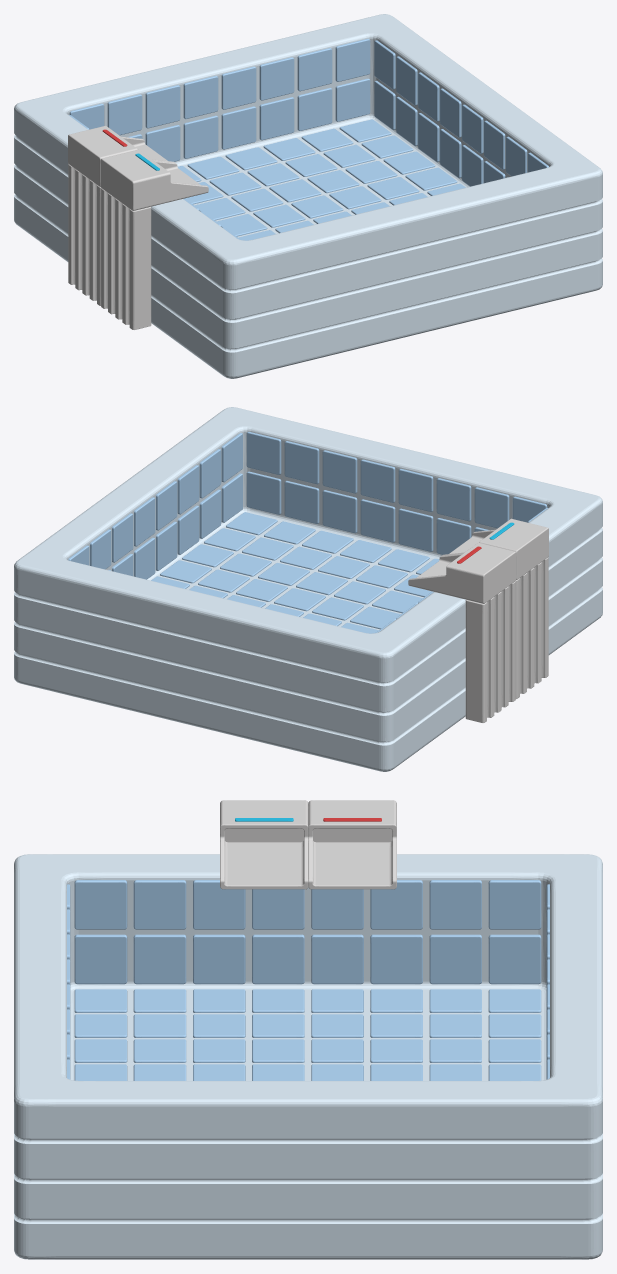
File: mesh_bath_basic.fbx
3 renders of one model, top to bottom at view 1: azimuth 30°, elevation 25°; view 2: azimuth 150°, elevation 25°; view 3: azimuth 270°, elevation 25°, orthographic. The views are drawn at different scales.
Visible parts, largest first — view 1: 개체_3, 개체_7, 개체_6, 개체_5, 개체_4, 개체_35, 개체_36, 개체_27, 개체_31, 개체_34, 개체_28, 개체_29 (+41 smaller); view 2: 개체_3, 개체_5, 개체_4, 개체_7, 개체_6, 개체_20, 개체_19, 개체_11, 개체_12, 개체_15, 개체_21, 개체_13 (+41 smaller); view 3: 개체_3, 개체_4, 개체_6, 개체_58, 개체_70, 개체_71, 개체_60, 개체_62, 개체_68, 개체_64, 개체_66, 개체_57 (+39 smaller).
Part boxes in pixels (x1,y1,x2,y2): 개체_3: (14, 14, 602, 378); 개체_7: (101, 188, 151, 329); 개체_6: (100, 149, 208, 210); 개체_5: (68, 164, 101, 305); 개체_4: (68, 125, 174, 186); 개체_35: (183, 76, 218, 119); 개체_36: (221, 66, 256, 109); 개체_27: (183, 115, 218, 158); 개체_31: (335, 78, 370, 121); 개체_34: (145, 85, 180, 128); 개체_28: (221, 106, 256, 149); 개체_29: (259, 97, 294, 140); 개체_3: (14, 407, 602, 771); 개체_5: (465, 581, 515, 722); 개체_4: (408, 542, 516, 603); 개체_7: (515, 557, 548, 698); 개체_6: (442, 518, 548, 579); 개체_20: (360, 459, 395, 502); 개체_19: (398, 469, 433, 512); 개체_11: (398, 508, 433, 551); 개체_12: (360, 499, 395, 542); 개체_15: (246, 471, 281, 514); 개체_21: (322, 450, 357, 493); 개체_13: (322, 490, 357, 533); 개체_3: (14, 854, 602, 1259); 개체_4: (308, 800, 396, 889); 개체_6: (220, 800, 308, 889); 개체_58: (488, 934, 541, 984); 개체_70: (133, 934, 186, 984); 개체_71: (74, 934, 127, 984); 개체_60: (429, 934, 481, 984); 개체_62: (370, 934, 422, 984); 개체_68: (193, 934, 245, 984); 개체_64: (311, 934, 363, 984); 개체_66: (252, 934, 304, 984); 개체_57: (488, 880, 541, 929).
Bounding box in the file's own units: 420 × 151 × 400.
